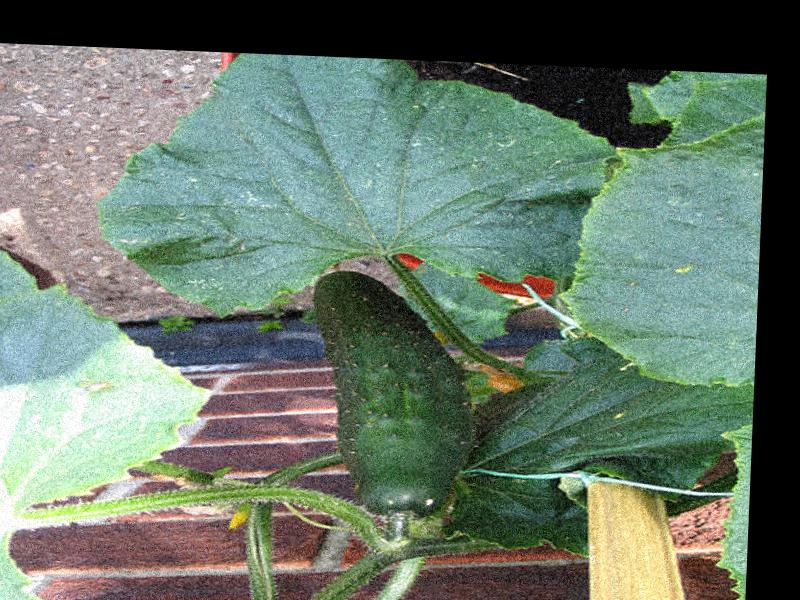Cucumber: (300, 269, 478, 519)
